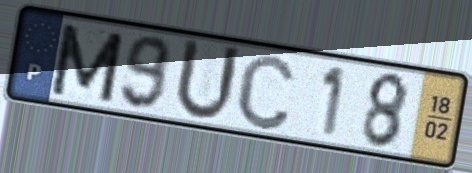1: (319, 63, 347, 139)
8: (360, 70, 412, 150)
9: (117, 33, 175, 112)
C: (233, 50, 298, 133)
M: (47, 20, 128, 107)
U: (171, 35, 244, 124)
